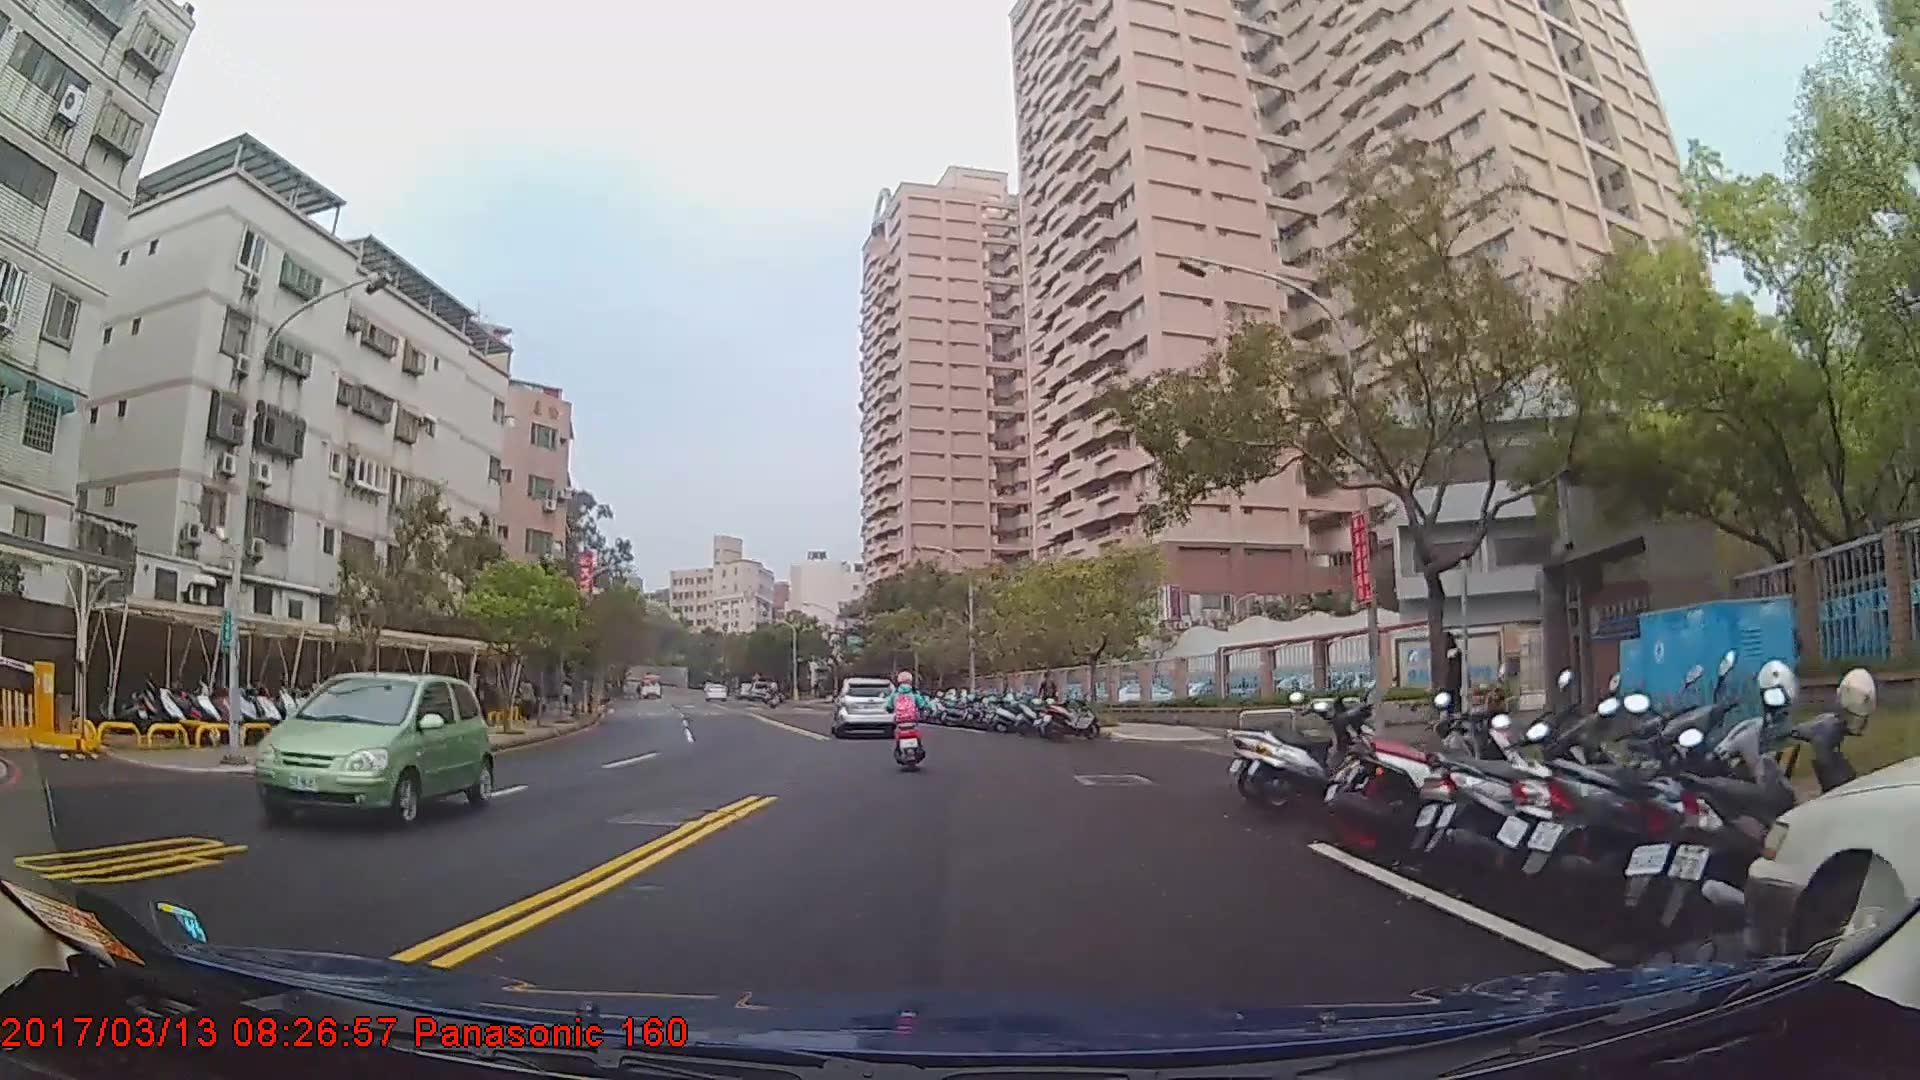pedestrian: (1434, 628, 1471, 766), (1038, 672, 1059, 727)
rider: (887, 671, 928, 774)
vehicle: (1748, 752, 1920, 1000), (252, 670, 495, 828), (831, 673, 899, 738), (637, 671, 664, 700)
